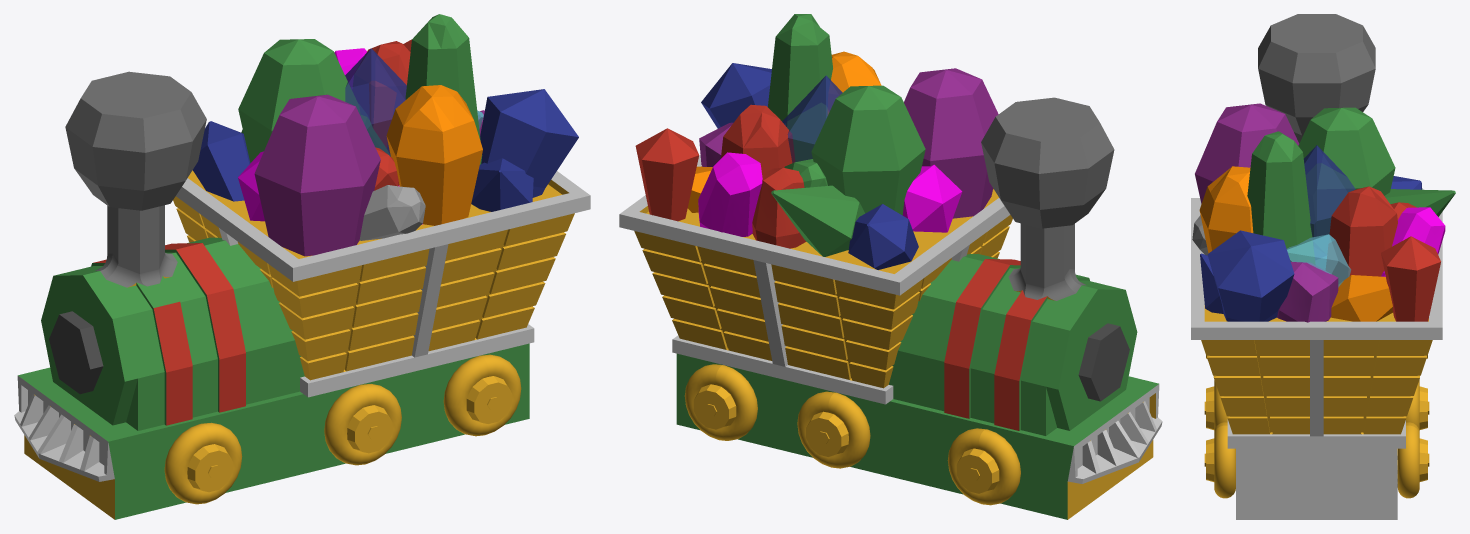
Rendered from Minecart.glb.
3 renders of one model, left to right at view 1: azimuth 30°, elevation 25°; view 2: azimuth 150°, elevation 25°; view 3: azimuth 270°, elevation 25°, orthographic. The views are drawn at different scales.
Visible parts, largest first — view 1: Body1, Body19, Body29, Body26, Body38, Body36, Body25, Body44, Body12, Body33, Body22; view 2: Body1, Body38, Body19, Body36, Body46, Body39, Body25, Body12, Body33, Body26, Body41, Body29 (+1 smaller); view 3: Body1, Body38, Body26, Body36, Body12, Body19, Body46, Body29, Body40, Body31, Body18, Body39 (+2 smaller).
Boxes of the visible parts, left/top/right/bottom form: Body1: left=14, top=48, right=590, bottom=519; Body19: left=254, top=94, right=380, bottom=256; Body29: left=386, top=85, right=482, bottom=225; Body26: left=471, top=89, right=578, bottom=211; Body38: left=238, top=39, right=390, bottom=162; Body36: left=405, top=14, right=482, bottom=164; Body25: left=193, top=121, right=250, bottom=201; Body44: left=359, top=185, right=425, bottom=240; Body12: left=366, top=41, right=410, bottom=147; Body33: left=238, top=151, right=422, bottom=224; Body22: left=374, top=147, right=399, bottom=190; Body1: left=619, top=75, right=1162, bottom=519; Body38: left=771, top=85, right=925, bottom=256; Body19: left=904, top=68, right=998, bottom=218; Body36: left=768, top=14, right=832, bottom=161; Body46: left=635, top=128, right=699, bottom=221; Body39: left=698, top=152, right=762, bottom=236; Body25: left=848, top=204, right=918, bottom=269; Body12: left=721, top=104, right=794, bottom=173; Body33: left=902, top=164, right=962, bottom=232; Body26: left=701, top=63, right=771, bottom=128; Body41: left=752, top=167, right=806, bottom=248; Body29: left=828, top=51, right=881, bottom=114; Body1: left=1191, top=14, right=1442, bottom=519; Body38: left=1298, top=107, right=1455, bottom=236; Body26: left=1200, top=230, right=1294, bottom=321; Body36: left=1247, top=131, right=1315, bottom=264; Body12: left=1326, top=186, right=1397, bottom=283; Body19: left=1195, top=103, right=1299, bottom=203; Body46: left=1381, top=236, right=1440, bottom=321; Body29: left=1199, top=166, right=1253, bottom=253; Body40: left=1277, top=261, right=1338, bottom=322; Body31: left=1330, top=275, right=1392, bottom=321; Body18: left=1286, top=234, right=1351, bottom=287; Body39: left=1381, top=207, right=1445, bottom=276.
Bounding box in the file's own units: 7.7 × 5.94 × 3.98.
